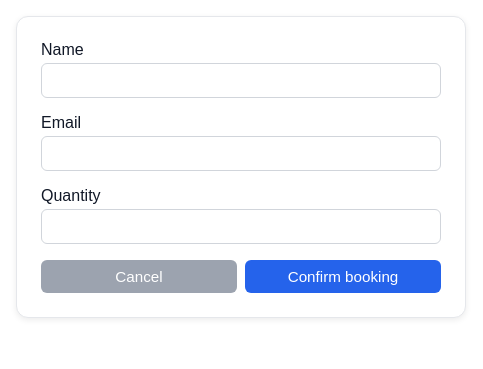
BookingForm integration › shows error when quantity exceeds available seats
Type "John" into the field labelled "Name" at {"x": 241, "y": 80}, box [41,63,441,98]
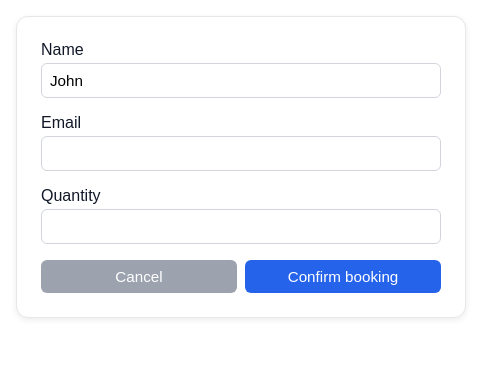
Type "john@example.com" into the field labelled "Email" at {"x": 241, "y": 154}, box [41,136,441,171]
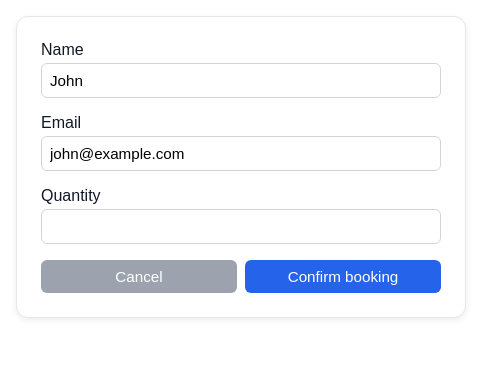
Type "10" into the number field labelled "Quantity" at {"x": 241, "y": 226}, box [41,209,441,244]
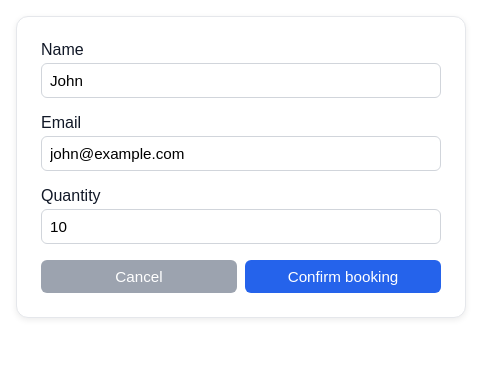
Click the button "Confirm booking" at {"x": 343, "y": 276}, box [245,260,441,293]
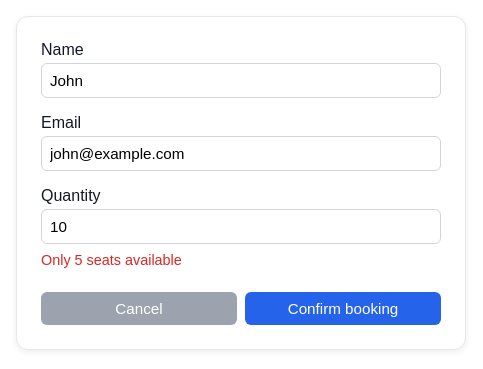
Result: the text "Only 5 seats available" is shown at [41,252,182,268]
